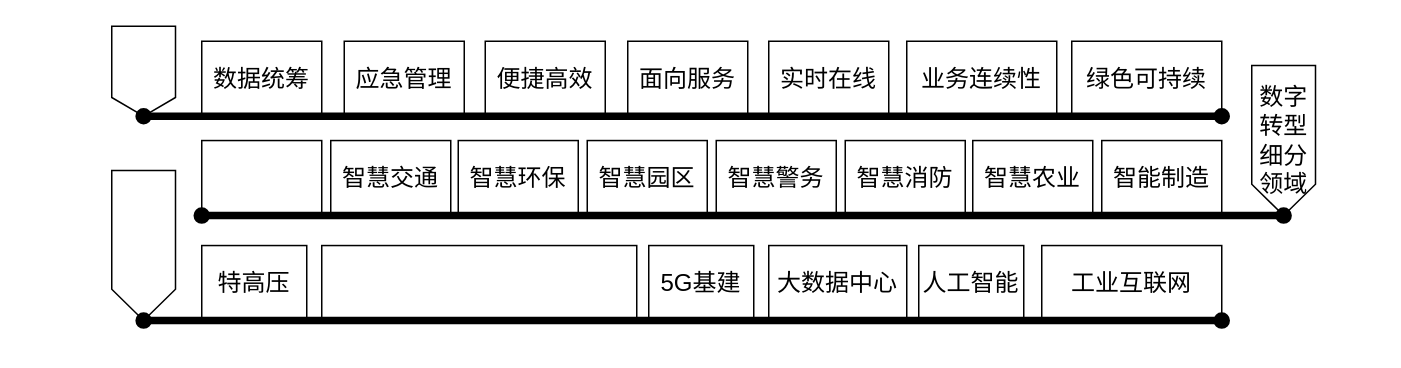
This 1401x368 diagram has some shape labels left out. Each missing label, with the centre of its shape:
价值实现: (x=143, y=70)
城际高速铁路和城际轨道交通: (x=478, y=282)
新基建七大领域: (x=143, y=245)
智慧城市: (x=261, y=177)
